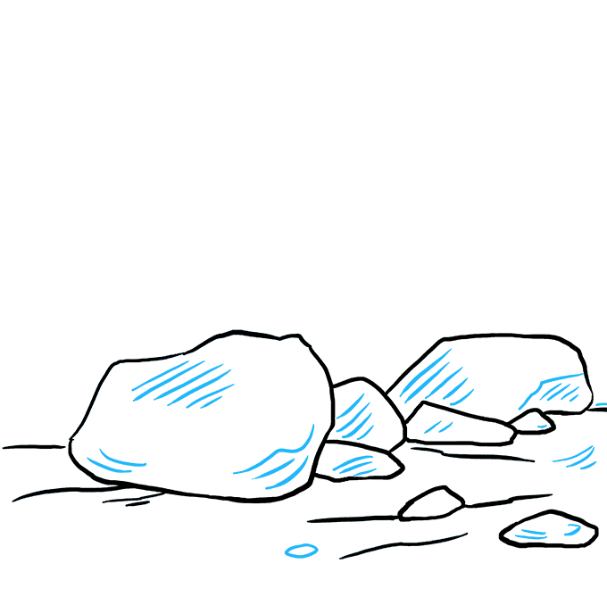stone: (58, 315, 339, 504), (383, 326, 599, 426), (314, 372, 422, 453), (391, 398, 535, 452), (498, 496, 604, 563), (293, 431, 412, 482), (380, 477, 485, 531)
